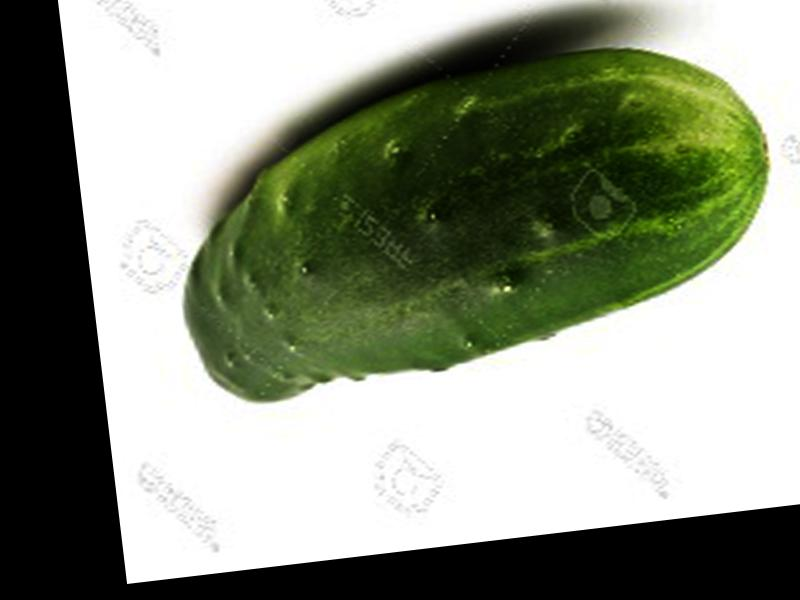Cucumber: (158, 27, 790, 410)
